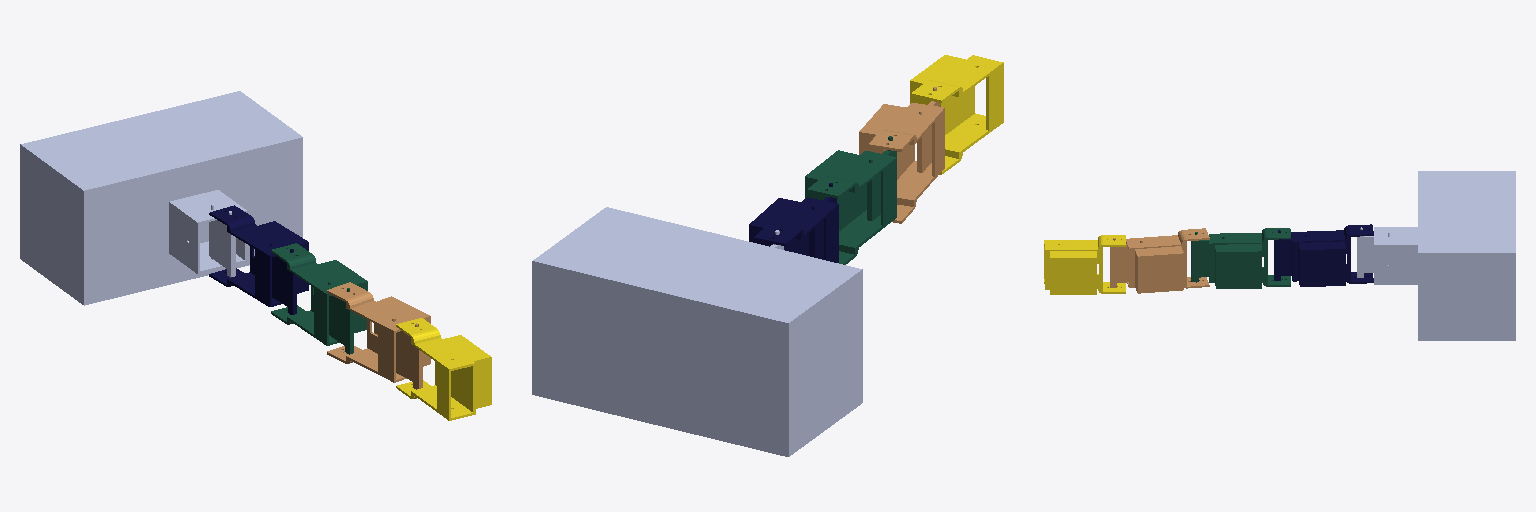
The robot description file, URDF, robot "装配体-new.SLDASM":
<?xml version="1.0" encoding="utf-8"?>
<!-- This URDF was automatically created by SolidWorks to URDF Exporter! Originally created by [author] ([email redacted]) 
     Commit Version: 1.6.0-4-g7f85cfe  Build Version: 1.6.7995.38578
     For more information, please see http://wiki.ros.org/sw_urdf_exporter -->
<robot
  name="装配体-new.SLDASM">
  <link
    name="base_link">
    <inertial>
      <origin
        xyz="0.147142907502603 0.125192776830468 0.0524935147885534"
        rpy="0 0 0" />
      <mass
        value="2.0227814568609" />
      <inertia
        ixx="0.00342301359659103"
        ixy="8.08139916015539E-20"
        ixz="-7.14835969235874E-19"
        iyy="0.0084218230550632"
        iyz="-1.00707691199069E-19"
        izz="0.00834408658796838" />
    </inertial>
    <visual>
      <origin
        xyz="0 0 0"
        rpy="0 0 0" />
      <geometry>
        <mesh
          filename="package://装配体-new.SLDASM/meshes/base_link.STL" />
      </geometry>
      <material
        name="base">
        <color
          rgba="0.792156862745098 0.819607843137255 0.933333333333333 1" />
      </material>
    </visual>
    <collision>
      <origin
        xyz="0 0 0"
        rpy="0 0 0" />
      <geometry>
        <mesh
          filename="package://装配体-new.SLDASM/meshes/base_link.STL" />
      </geometry>
    </collision>
  </link>
  <link
    name="link1">
    <inertial>
      <origin
        xyz="-0.044764 0.013522 -0.029852"
        rpy="0 0 0" />
      <mass
        value="0.058854" />
      <inertia
        ixx="1.8183E-05"
        ixy="9.623E-07"
        ixz="6.4974E-08"
        iyy="2.826E-05"
        iyz="1.3513E-08"
        izz="2.1876E-05" />
    </inertial>
    <visual>
      <origin
        xyz="0 0 0"
        rpy="0 0 0" />
      <geometry>
        <mesh
          filename="package://装配体-new.SLDASM/meshes/link1.STL" />
      </geometry>
      <material
        name="joint_1_blue">
        <color
          rgba="0.11 0.11 0.32 1" />
      </material>
    </visual>
    <collision>
      <origin
        xyz="0 0 0"
        rpy="0 0 0" />
      <geometry>
        <mesh
          filename="package://装配体-new.SLDASM/meshes/link1.STL" />
      </geometry>
    </collision>
  </link>
  <joint
    name="joint1"
    type="revolute">
    <origin
      xyz="0.14714 -0.15958 0.097186"
      rpy="-3.1416 0 1.6521" />
    <parent
      link="base_link" />
    <child
      link="link1" />
    <axis
      xyz="0 0 -1" />
    <limit
      lower="-3.14"
      upper="3.14"
      effort="100"
      velocity="1" />
  </joint>
  <link
    name="link2">
    <inertial>
      <origin
        xyz="-0.044763 0.013475 -0.029602"
        rpy="0 0 0" />
      <mass
        value="0.058854" />
      <inertia
        ixx="1.8184E-05"
        ixy="9.5018E-07"
        ixz="6.4974E-08"
        iyy="2.826E-05"
        iyz="1.3513E-08"
        izz="2.1876E-05" />
    </inertial>
    <visual>
      <origin
        xyz="0 0 0"
        rpy="0 0 0" />
      <geometry>
        <mesh
          filename="package://装配体-new.SLDASM/meshes/link2.STL" />
      </geometry>
      <material
        name="joint_2_green">
        <color
          rgba="0.16 0.38 0.31 1" />
      </material>
    </visual>
    <collision>
      <origin
        xyz="0 0 0"
        rpy="0 0 0" />
      <geometry>
        <mesh
          filename="package://装配体-new.SLDASM/meshes/link2.STL" />
      </geometry>
    </collision>
  </link>
  <joint
    name="joint2"
    type="revolute">
    <origin
      xyz="-0.085 0 0"
      rpy="0 0 0.049371" />
    <parent
      link="link1" />
    <child
      link="link2" />
    <axis
      xyz="0 0 -1" />
    <limit
      lower="-3.14"
      upper="3.14"
      effort="100"
      velocity="1" />
  </joint>
  <link
    name="link3">
    <inertial>
      <origin
        xyz="-0.044764 0.013522 -0.029352"
        rpy="0 0 0" />
      <mass
        value="0.058854" />
      <inertia
        ixx="1.8183E-05"
        ixy="9.623E-07"
        ixz="6.4974E-08"
        iyy="2.826E-05"
        iyz="1.3513E-08"
        izz="2.1876E-05" />
    </inertial>
    <visual>
      <origin
        xyz="0 0 0"
        rpy="0 0 0" />
      <geometry>
        <mesh
          filename="package://装配体-new.SLDASM/meshes/link3.STL" />
      </geometry>
      <material
        name="joint_3_brown">
        <color
          rgba="0.82 0.62 0.43 1" />
      </material>
    </visual>
    <collision>
      <origin
        xyz="0 0 0"
        rpy="0 0 0" />
      <geometry>
        <mesh
          filename="package://装配体-new.SLDASM/meshes/link3.STL" />
      </geometry>
    </collision>
  </link>
  <joint
    name="joint3"
    type="revolute">
    <origin
      xyz="-0.084994 -0.0005728 0"
      rpy="0 0 -0.13526" />
    <parent
      link="link2" />
    <child
      link="link3" />
    <axis
      xyz="0 0 -1" />
    <limit
      lower="-3.14"
      upper="3.14"
      effort="100"
      velocity="1" />
  </joint>
  <link
    name="link4">
    <inertial>
      <origin
        xyz="-0.040405 0.015448 -0.027617"
        rpy="0 0 0" />
      <mass
        value="0.051514" />
      <inertia
        ixx="1.6973E-05"
        ixy="9.623E-07"
        ixz="6.4974E-08"
        iyy="2.6458E-05"
        iyz="1.3513E-08"
        izz="2.1264E-05" />
    </inertial>
    <visual>
      <origin
        xyz="0 0 0"
        rpy="0 0 0" />
      <geometry>
        <mesh
          filename="package://装配体-new.SLDASM/meshes/link4.STL" />
      </geometry>
      <material
        name="joint_4_yellow">
        <color
          rgba="0.96 0.88 0.18 1" />
      </material>
    </visual>
    <collision>
      <origin
        xyz="0 0 0"
        rpy="0 0 0" />
      <geometry>
        <mesh
          filename="package://装配体-new.SLDASM/meshes/link4.STL" />
      </geometry>
    </collision>
  </link>
  <joint
    name="joint4"
    type="revolute">
    <origin
      xyz="-0.085 0 -0.0015"
      rpy="0 0 0.16515" />
    <parent
      link="link3" />
    <child
      link="link4" />
    <axis
      xyz="0 0 -1" />
    <limit
      lower="-3.14"
      upper="3.14"
      effort="100"
      velocity="1" />
  </joint>
</robot>

--- Facts derived from the render (not from the file) ---
The picture shows the robot from 3 angles, left to right: view 1: azimuth 30°, elevation 25°; view 2: azimuth 150°, elevation 25°; view 3: azimuth 270°, elevation 25°; orthographic projection.
Robot: 装配体-new.SLDASM — 5 links, 4 joints (4 revolute); root link base_link; default pose: all joints at 0.
Visible links, largest first — view 1: base_link, link4, link3, link1, link2; view 2: base_link, link2, link4, link3, link1; view 3: base_link, link2, link1, link3, link4.
Boxes of the visible links, x1,y1,x2,y2 form: base_link: [20, 91, 302, 305]; link4: [396, 318, 491, 420]; link3: [327, 282, 430, 389]; link1: [209, 205, 308, 314]; link2: [271, 243, 367, 354]; base_link: [532, 207, 862, 456]; link2: [805, 136, 896, 264]; link4: [910, 55, 1003, 174]; link3: [859, 87, 944, 223]; link1: [749, 183, 838, 262]; base_link: [1357, 171, 1515, 340]; link2: [1191, 228, 1290, 288]; link1: [1274, 224, 1373, 286]; link3: [1110, 228, 1209, 293]; link4: [1044, 235, 1125, 294].
Size in the robot's own frame: 0.2 by 0.4835 by 0.1 metres.
Meshes: 5 distinct files referenced, 5 mesh visuals loaded (5 binary STL).
